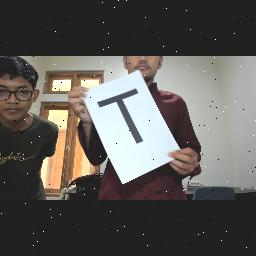t: (96, 85, 150, 149)
